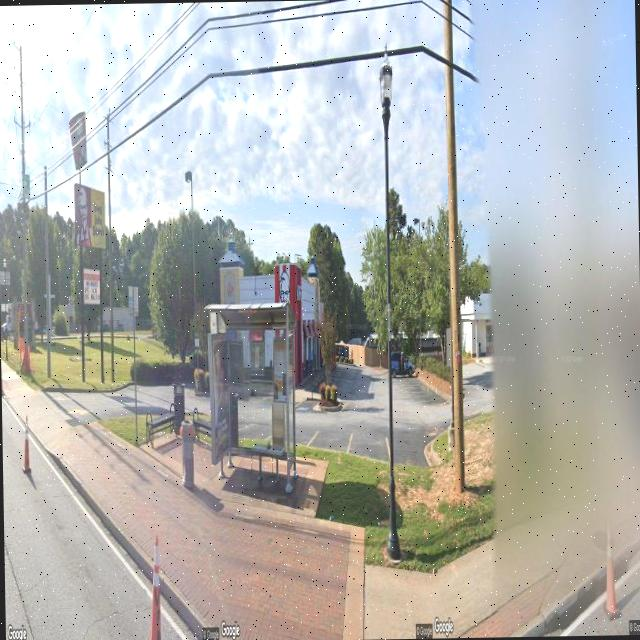seating: (145, 402, 177, 449), (253, 442, 284, 480), (192, 406, 211, 442)
shelter: (205, 297, 296, 490)
trash_can: (180, 419, 194, 488), (172, 380, 186, 434), (228, 392, 238, 448)
